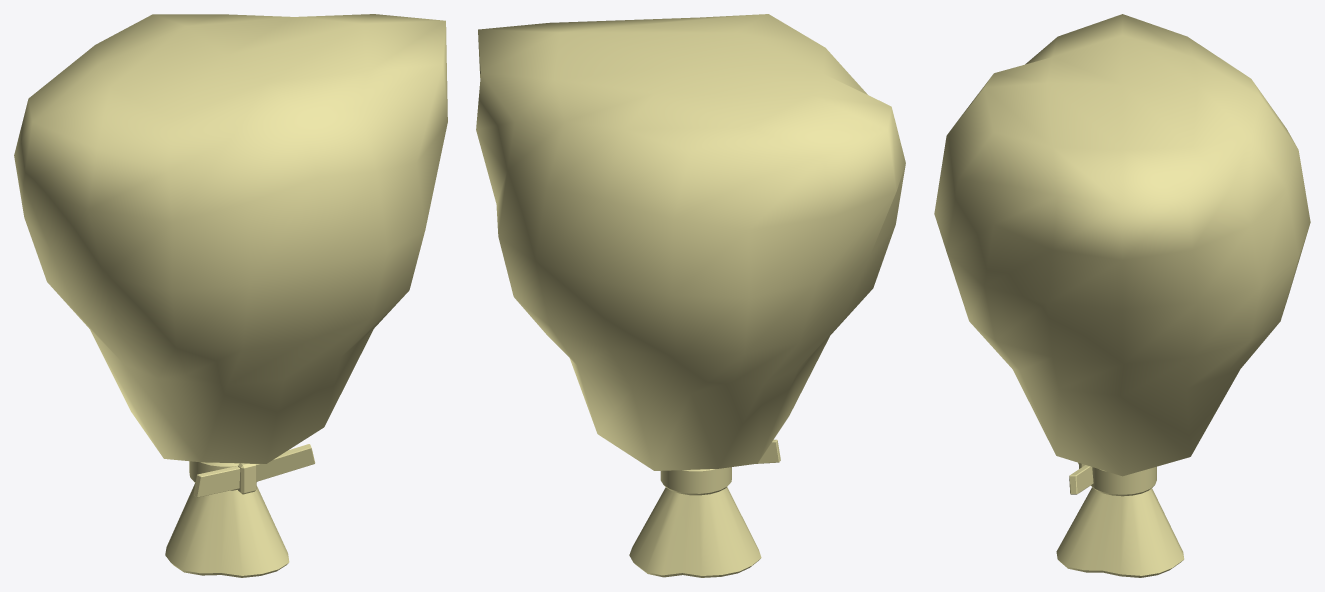
The model's file is explosives.fbx.
3 views of the same model, side by side, from view 1: azimuth 30°, elevation 25°; view 2: azimuth 150°, elevation 25°; view 3: azimuth 270°, elevation 25° (orthographic). The views are drawn at different scales.
Parts seen in each view (by area): view 1: Sack_object_01; view 2: Sack_object_01; view 3: Sack_object_01.
Part boxes in pixels (left/top/right/bottom): Sack_object_01: left=14, top=14, right=447, bottom=577; Sack_object_01: left=476, top=14, right=905, bottom=577; Sack_object_01: left=934, top=14, right=1310, bottom=577.
Bounding box in the file's own units: 10.73 × 12.09 × 8.76.
